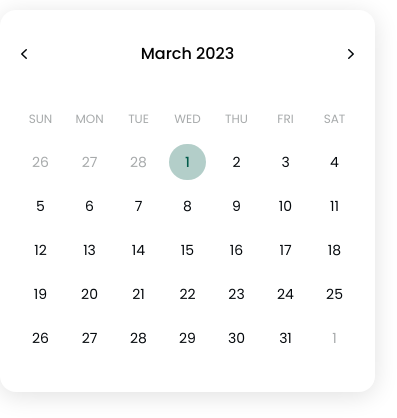
Test case: CalendarComponent › decrements month
Expected: the text "March 2023" is shown, x1=141 y1=42 x2=234 y2=65
Step 1. Click the element with test id "prev-month" → x=24, y=54, box x1=16 y1=46 x2=32 y2=62
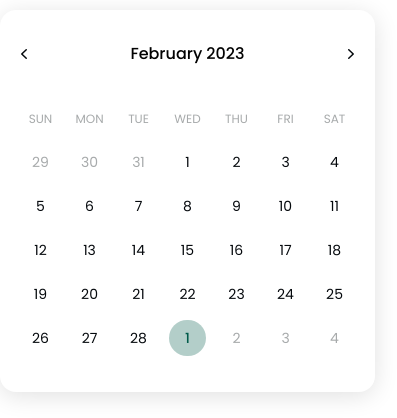
Result: the text "March 2023" is gone
Result: the text "February 2023" is shown at x1=130 y1=42 x2=245 y2=65
